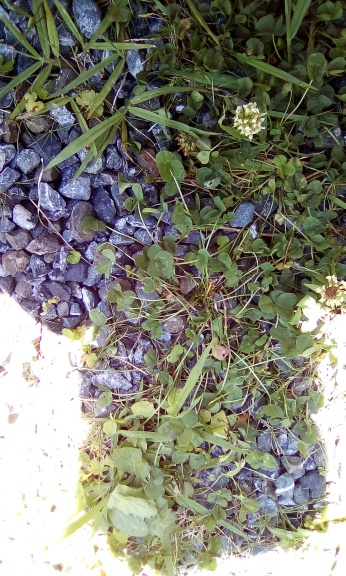4leaf: (146, 244, 175, 279)
